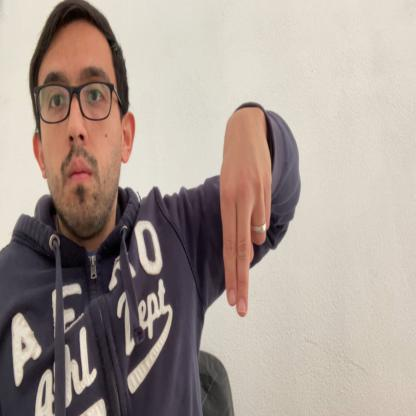N: (220, 113, 272, 319)
